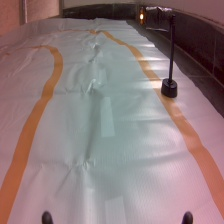yellow: (136, 3, 179, 98)
